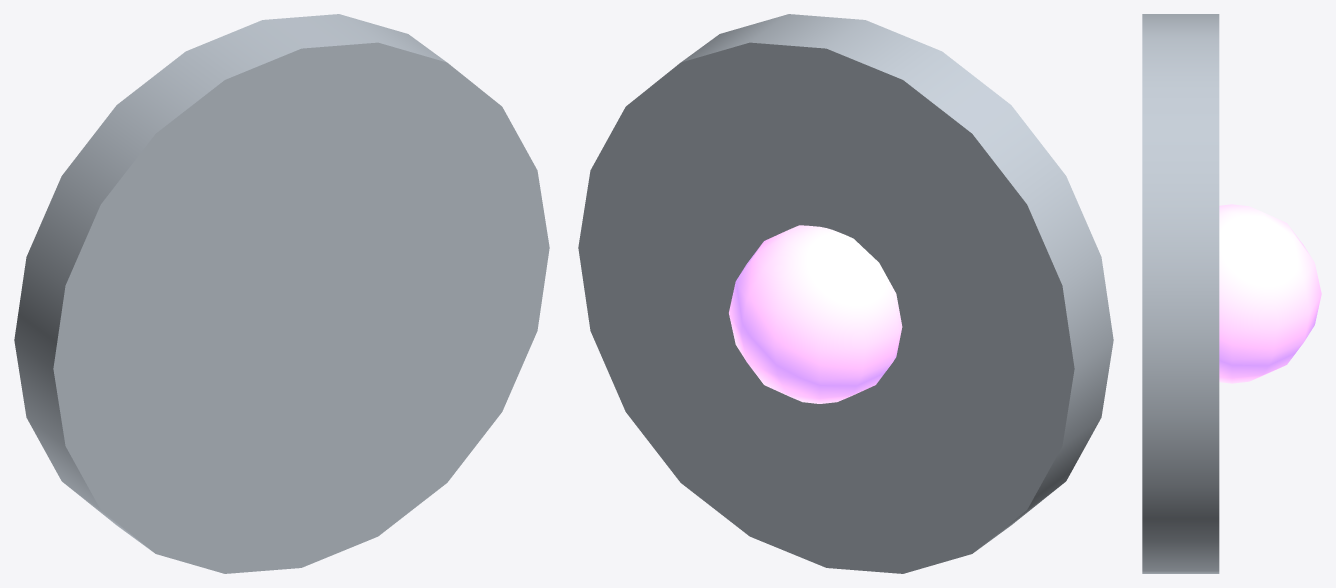
File: shield_recon.glb
The picture shows the model from 3 angles, left to right: view 1: azimuth 30°, elevation 25°; view 2: azimuth 150°, elevation 25°; view 3: azimuth 270°, elevation 25°; orthographic projection.
Visible parts, largest first — view 1: buckler; view 2: buckler, lens; view 3: buckler, lens.
Part boxes in pixels (<box>): buckler: <box>14,14,549,573</box>; buckler: <box>578,14,1113,573</box>; lens: <box>729,225,902,403</box>; buckler: <box>1142,14,1219,573</box>; lens: <box>1219,204,1321,383</box>.
Size of the model in its own units: 0.22 by 0.22 by 0.07.
